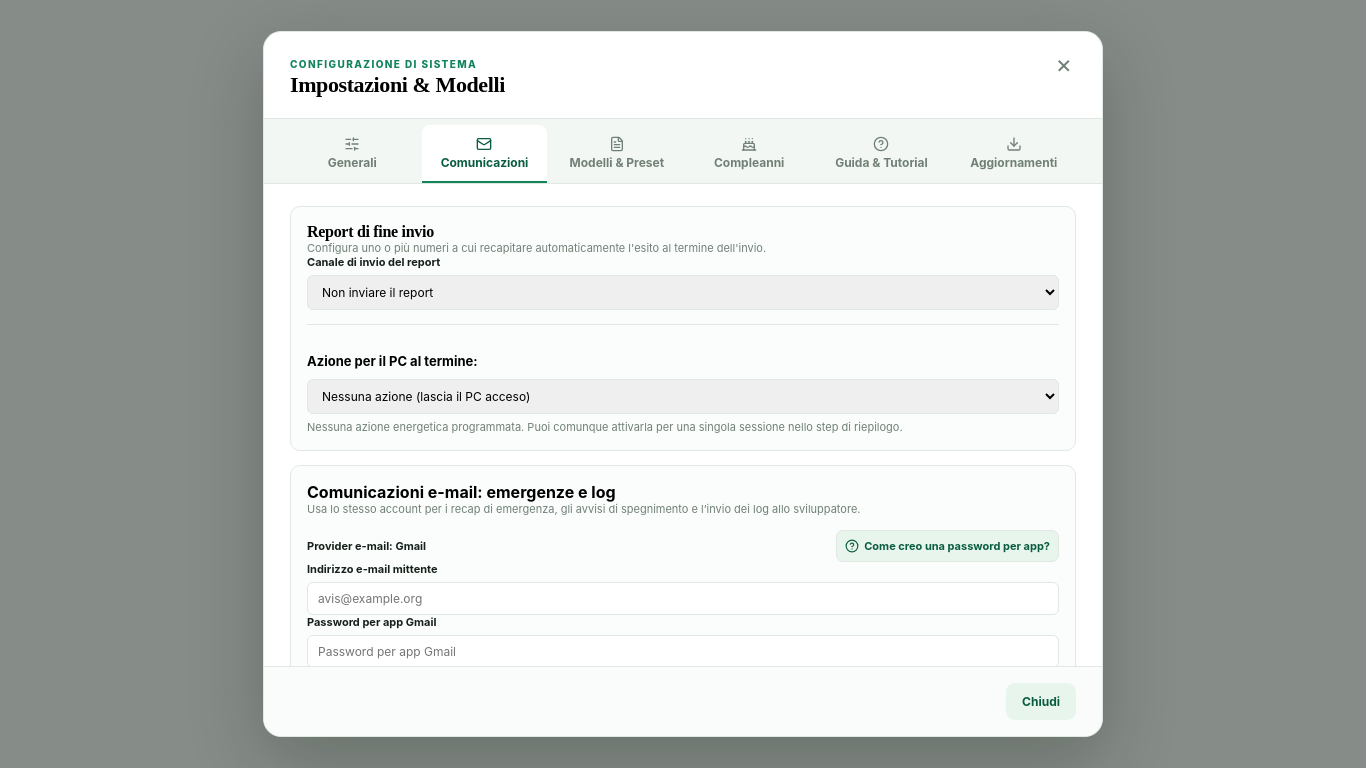
Test case: SettingsModal › usa l’icona del cestino per eliminare un preset
Click the button "Modelli & Preset". click: [617, 154]
box: [555,125,679,183]
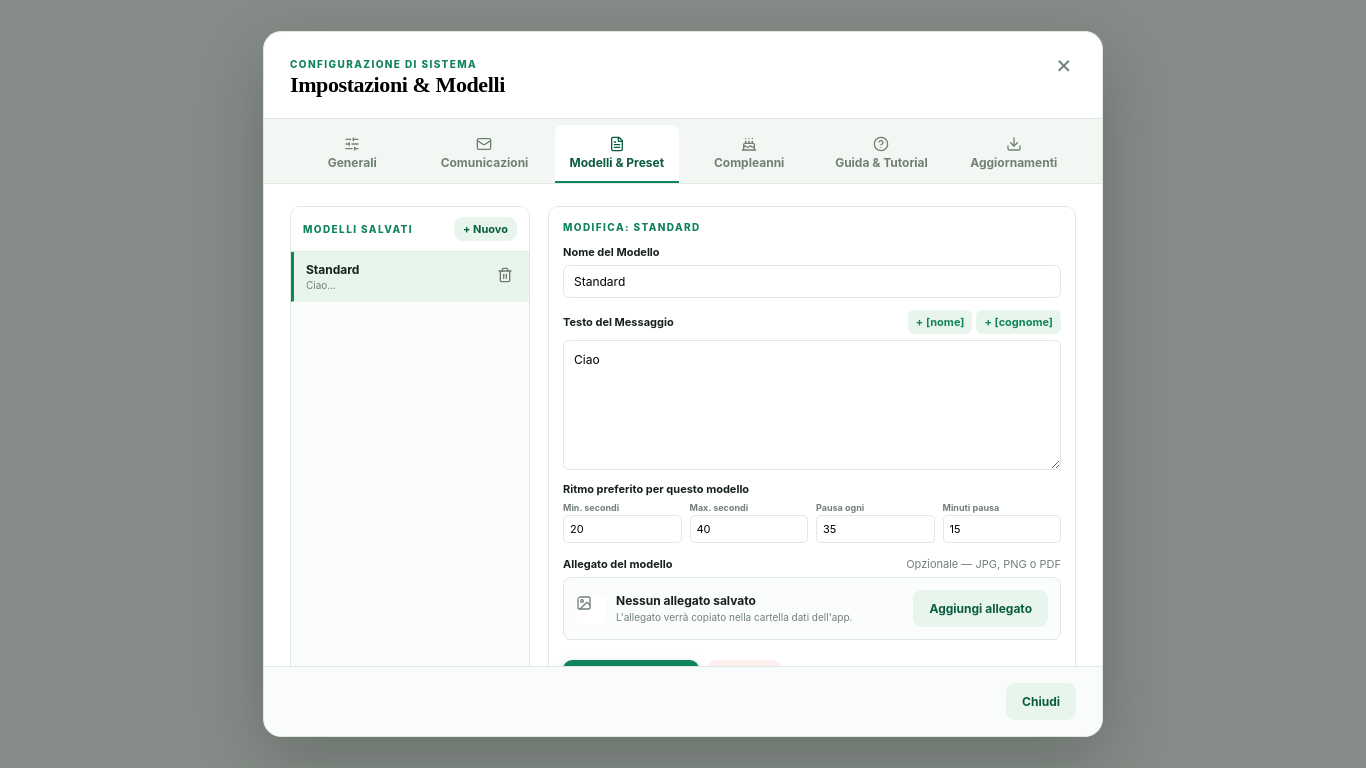
Expected: the icon with class "lucide-trash-2" is shown, [497,267,513,283]
